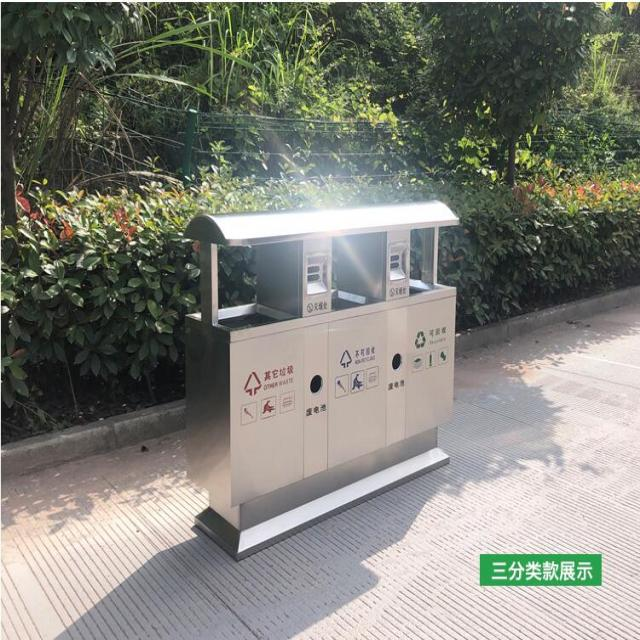ash bin: (173, 194, 459, 562)
